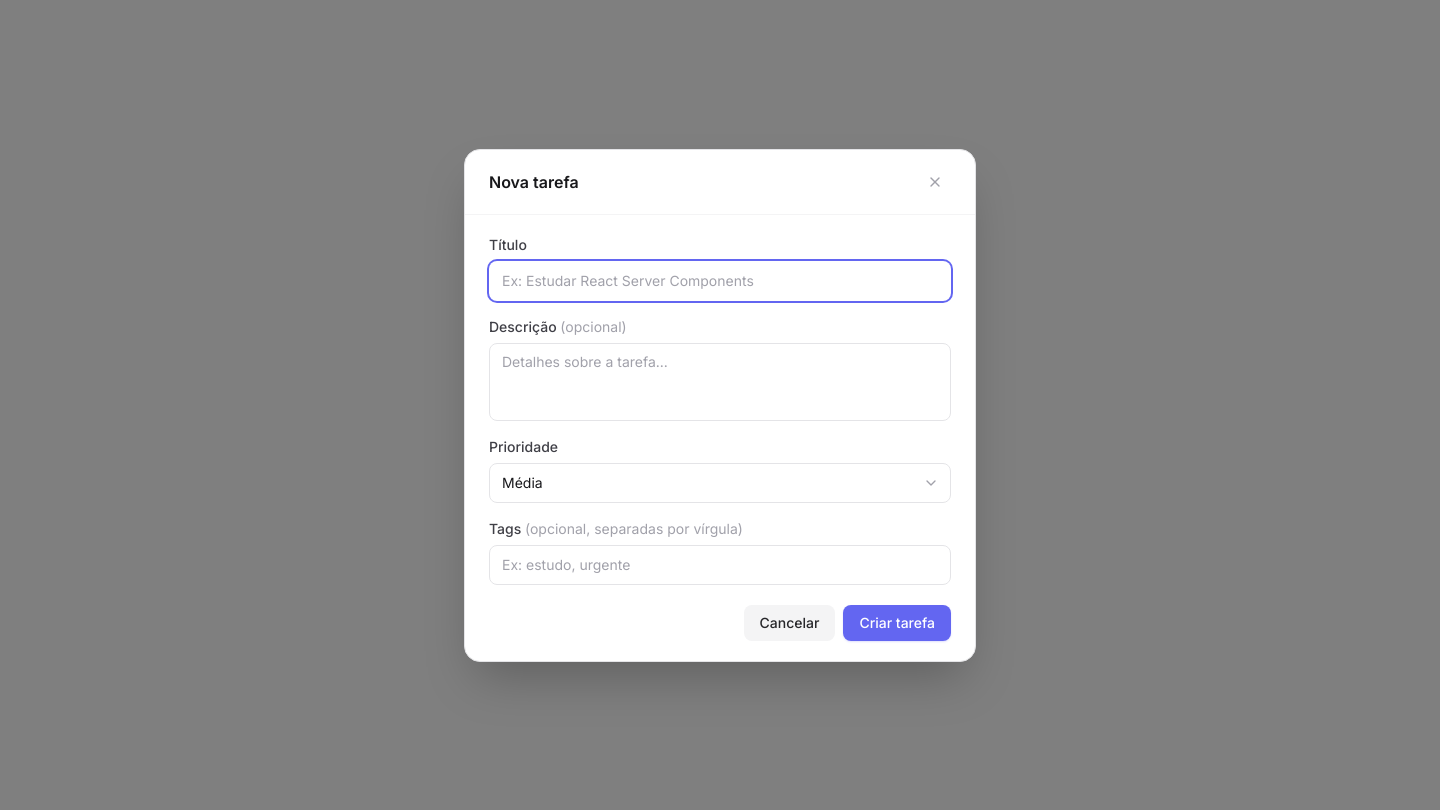
Test case: TaskFormModal › não submete quando o título está vazio e mostra o erro de validação
Click the button "Criar tarefa": coordinates (897, 622) [843,604,951,640]
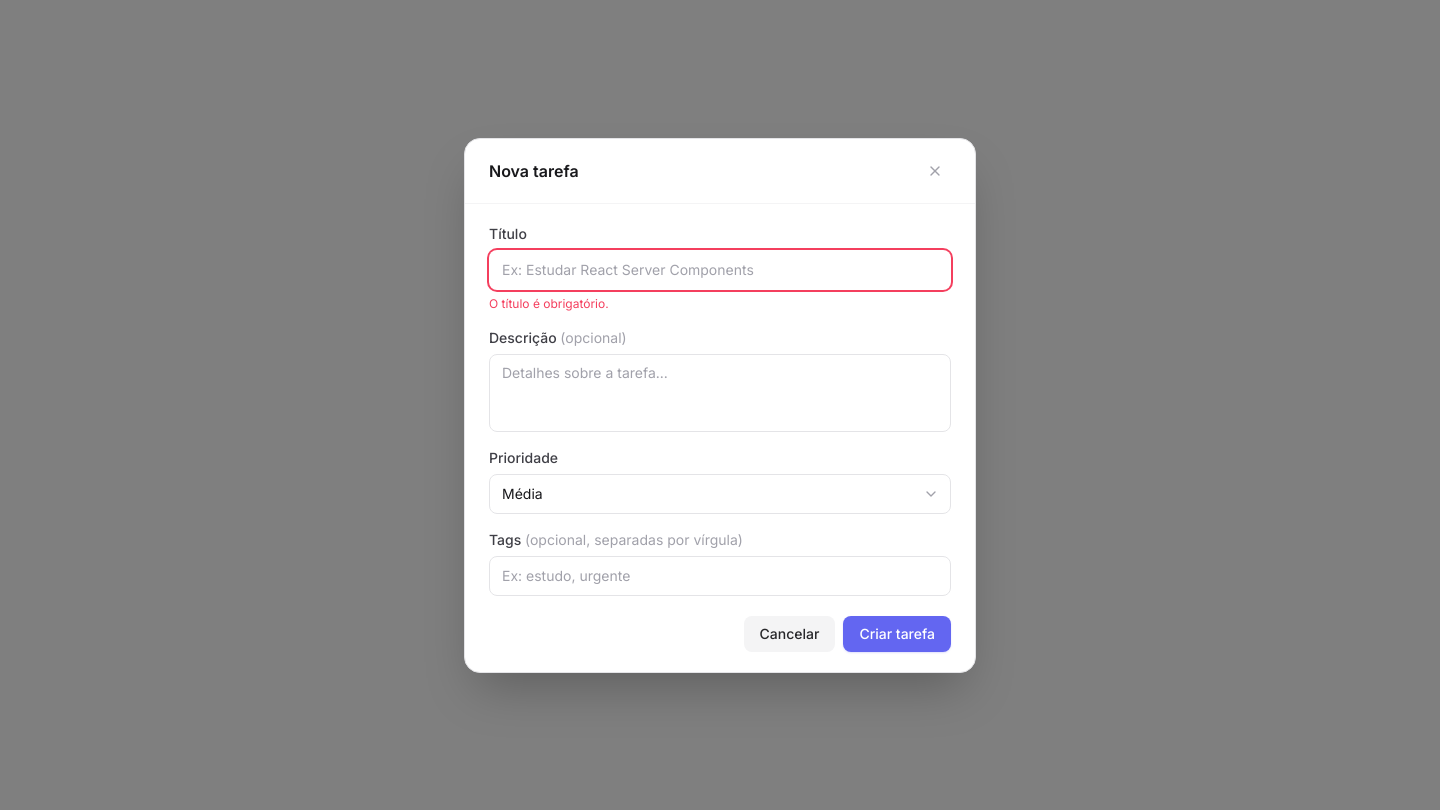
Now the text "O título é obrigatório." is shown, box [489,296,609,310]
